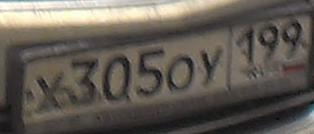license-plateSW: (21, 12, 314, 125)
